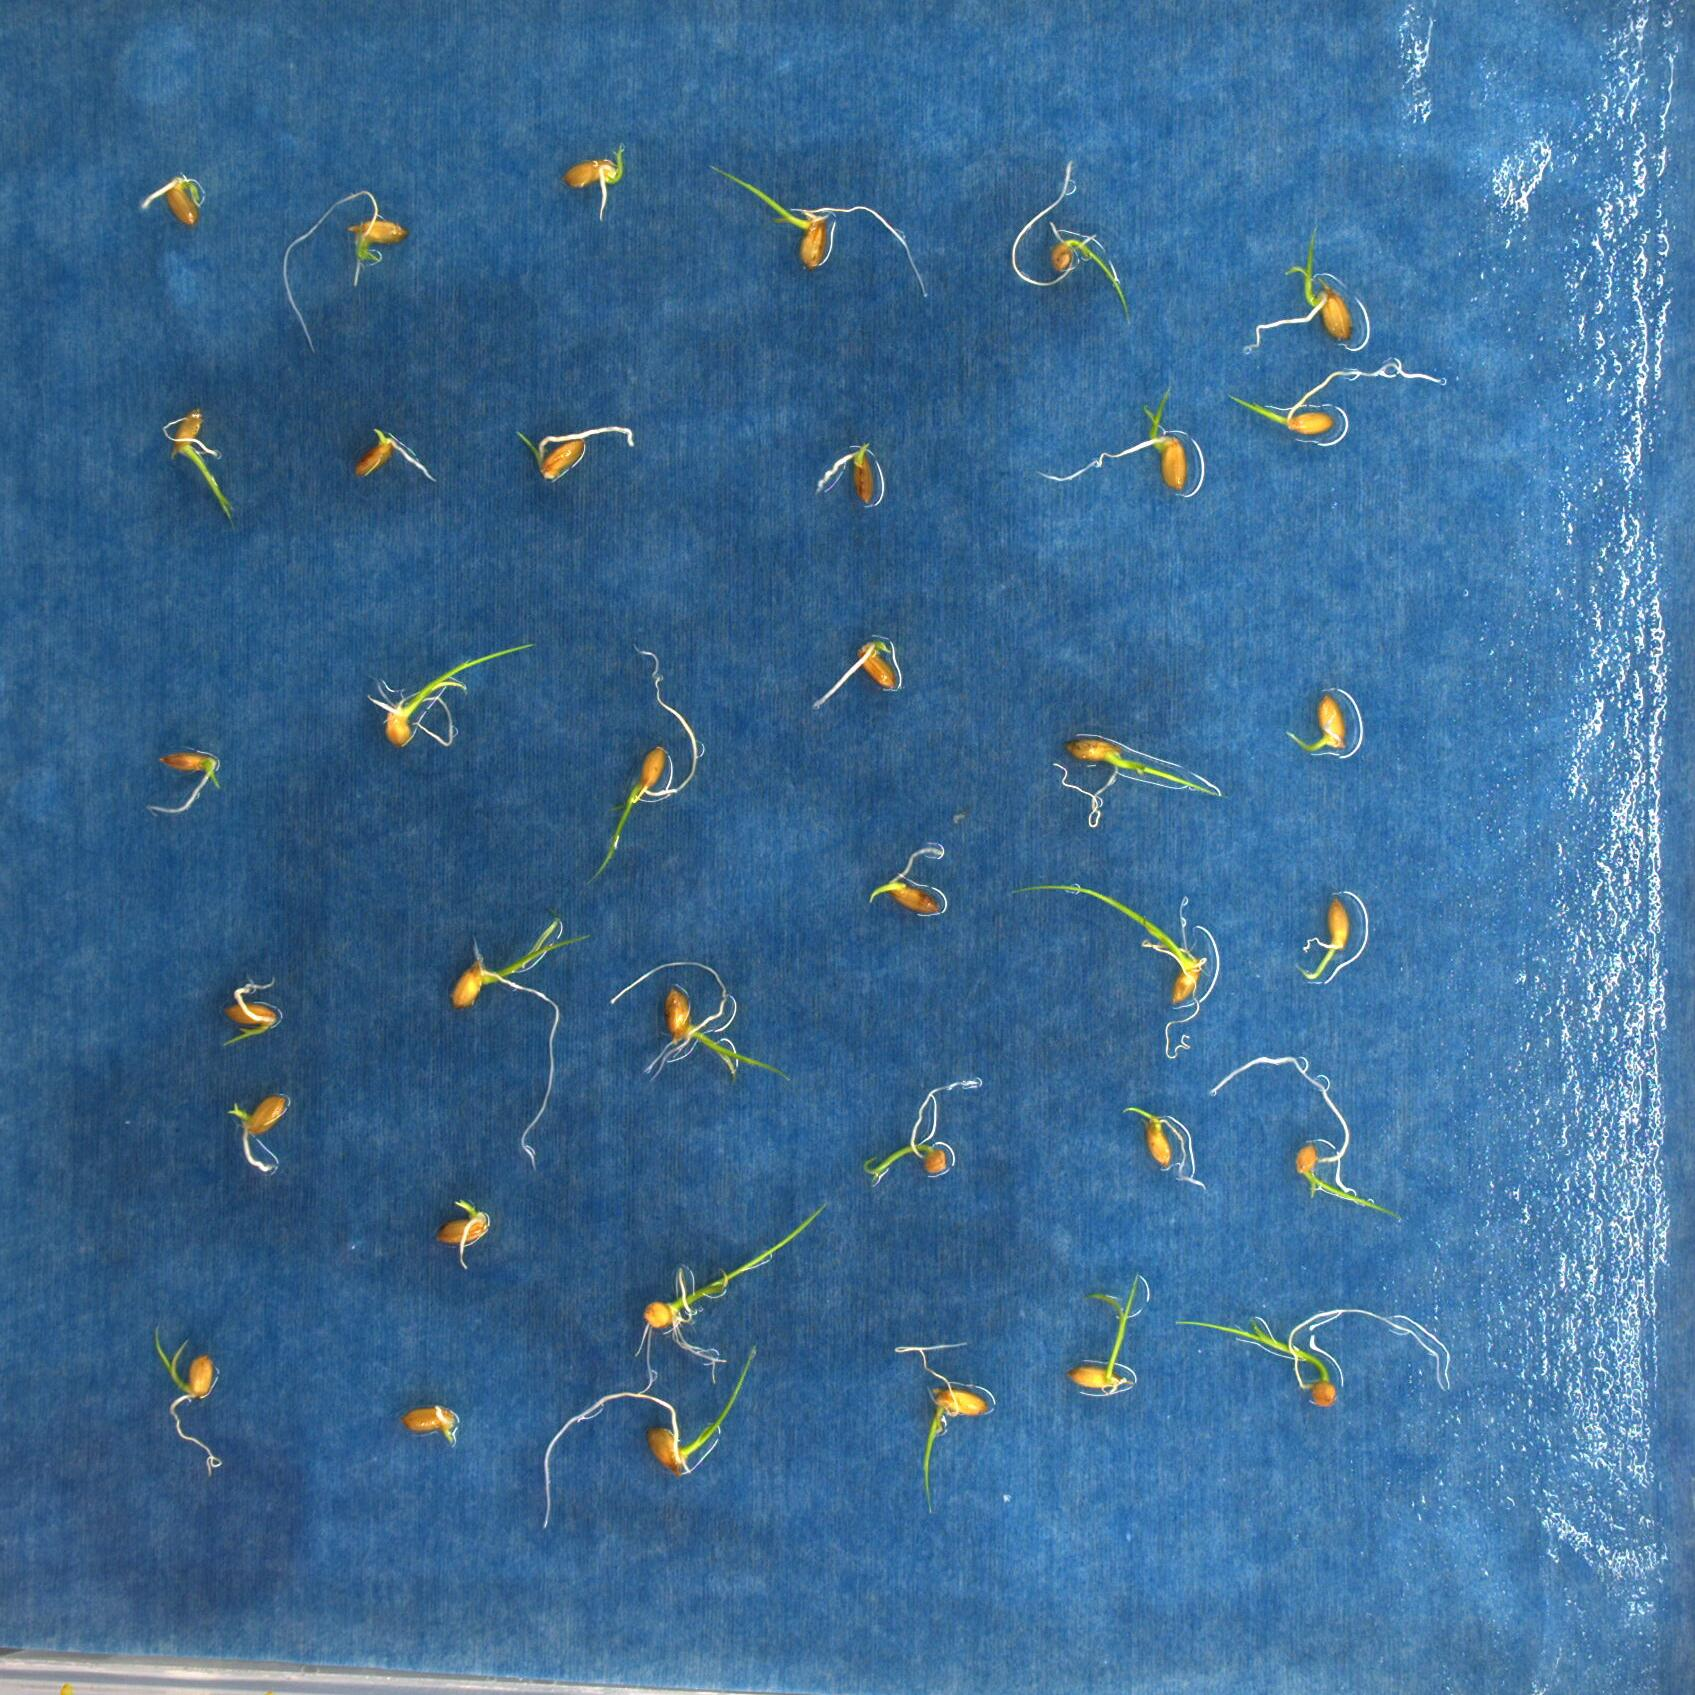not sprout: (351, 422, 438, 486), (224, 1090, 286, 1173), (433, 1200, 489, 1263), (394, 1405, 458, 1451)
sprout: (542, 1346, 761, 1527), (452, 916, 591, 1169), (640, 1205, 823, 1395), (1007, 885, 1208, 1059), (1208, 1052, 1400, 1223), (709, 166, 927, 298), (1175, 1302, 1445, 1405), (585, 643, 695, 886), (608, 959, 795, 1083), (279, 191, 407, 352), (1010, 158, 1135, 318), (360, 640, 536, 751), (1222, 355, 1448, 439), (1042, 379, 1187, 500), (1051, 733, 1220, 829), (1245, 206, 1354, 348), (896, 1343, 986, 1510), (861, 1076, 983, 1180), (154, 1322, 224, 1478), (158, 404, 237, 528), (1066, 1270, 1138, 1395), (1121, 1105, 1208, 1191), (514, 425, 636, 477), (866, 844, 944, 917), (816, 636, 899, 702), (146, 747, 220, 818), (216, 973, 281, 1049), (563, 144, 626, 222), (1296, 899, 1350, 981), (809, 439, 875, 504), (1284, 692, 1346, 751), (138, 175, 206, 227)
